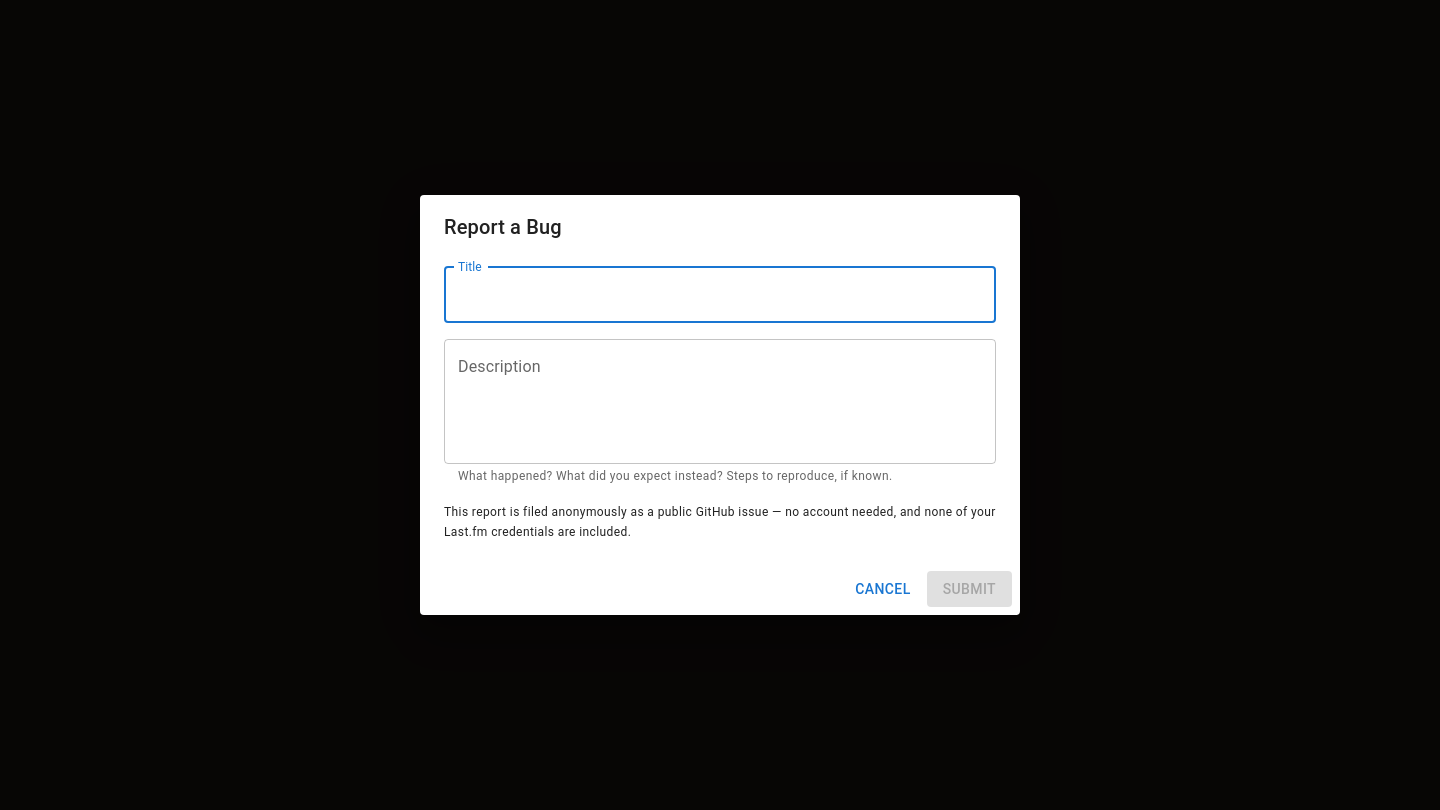
BugReportDialog › shows the created issue URL after a successful submission
This screenshot has width=1440, height=810.
Type "Title" into the field labelled "Title" at (720, 295), box x1=444 y1=267 x2=996 y2=323
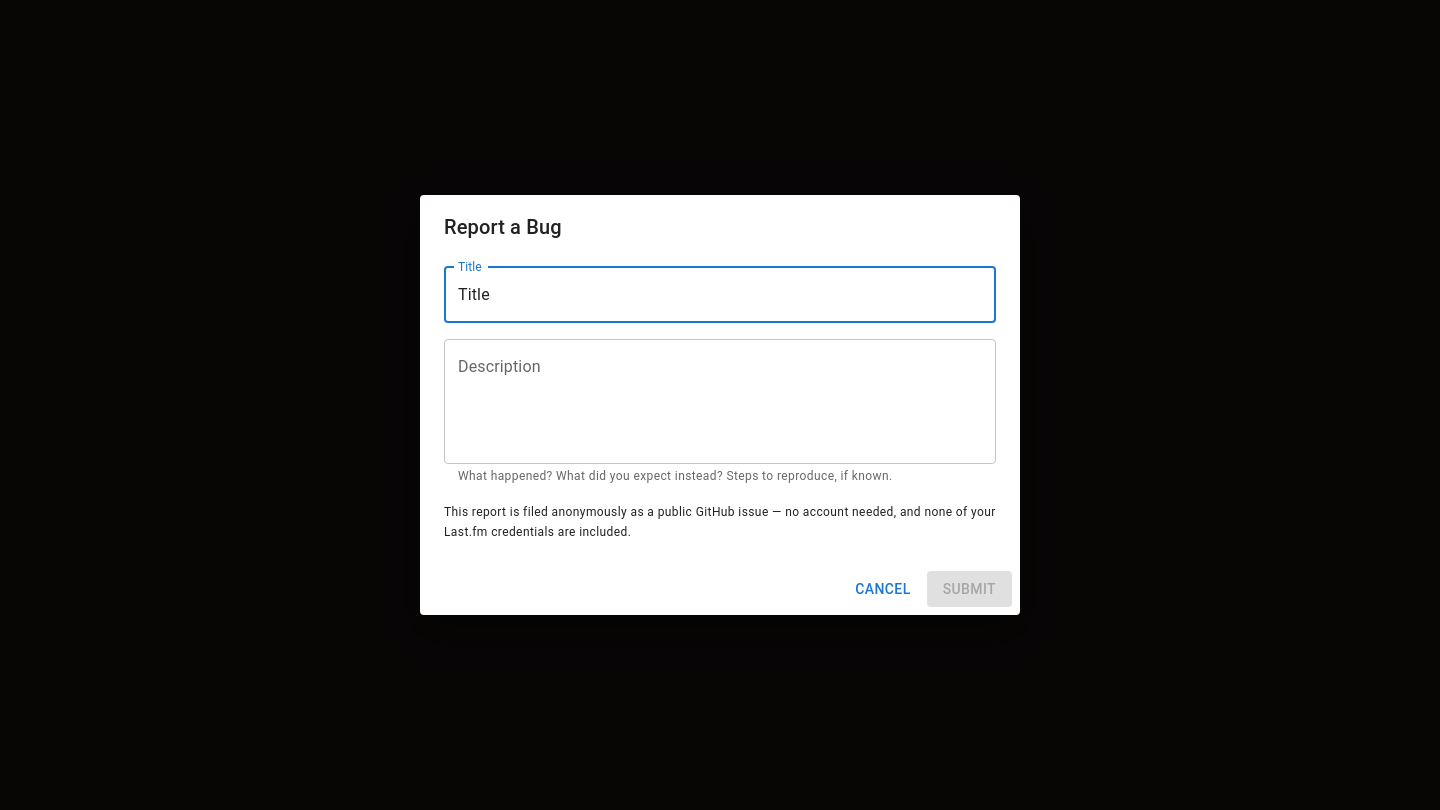
Type "Description" into the text box labelled "Description" at (720, 401), box x1=458 y1=355 x2=982 y2=447
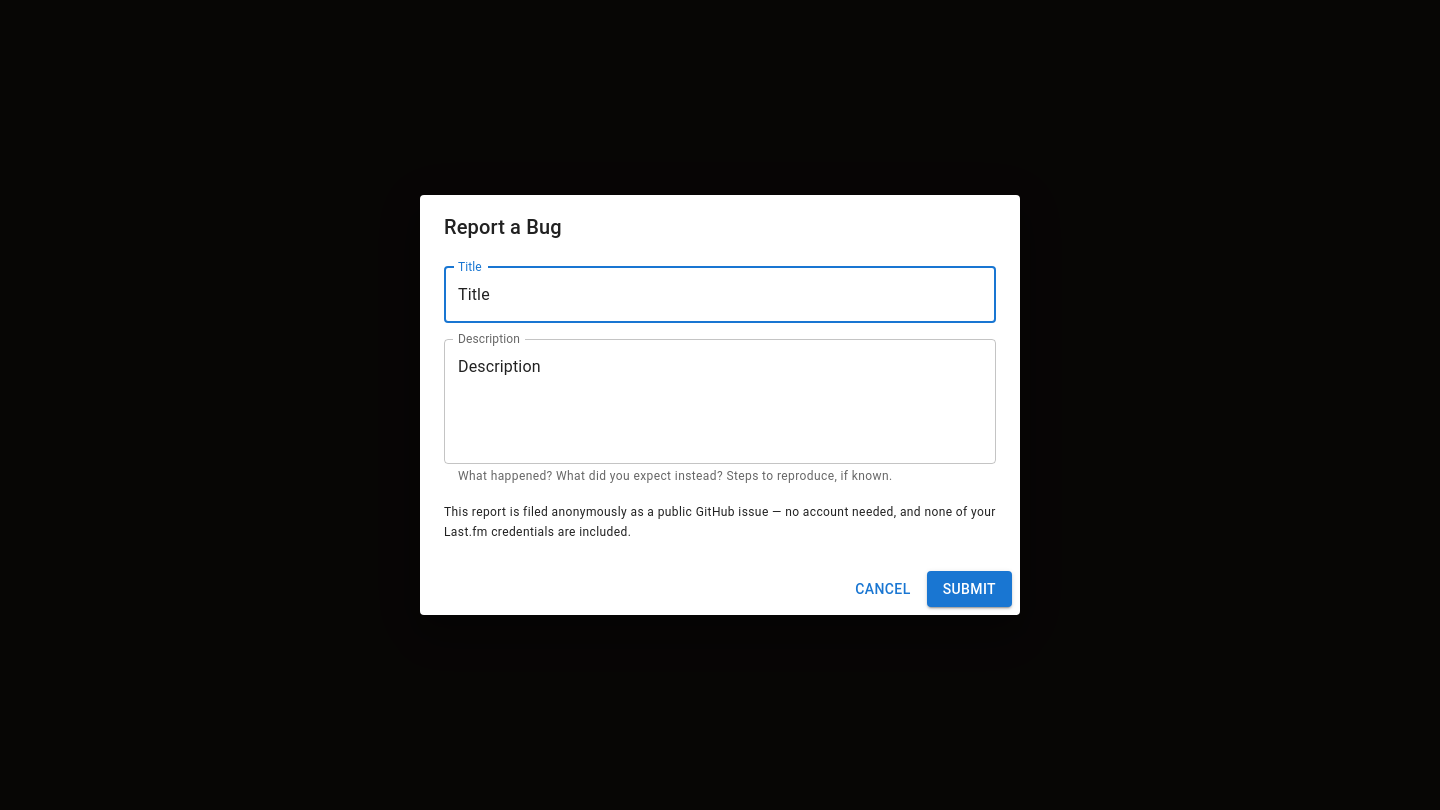
Click the button "Submit" at (969, 589), box x1=927 y1=571 x2=1012 y2=607
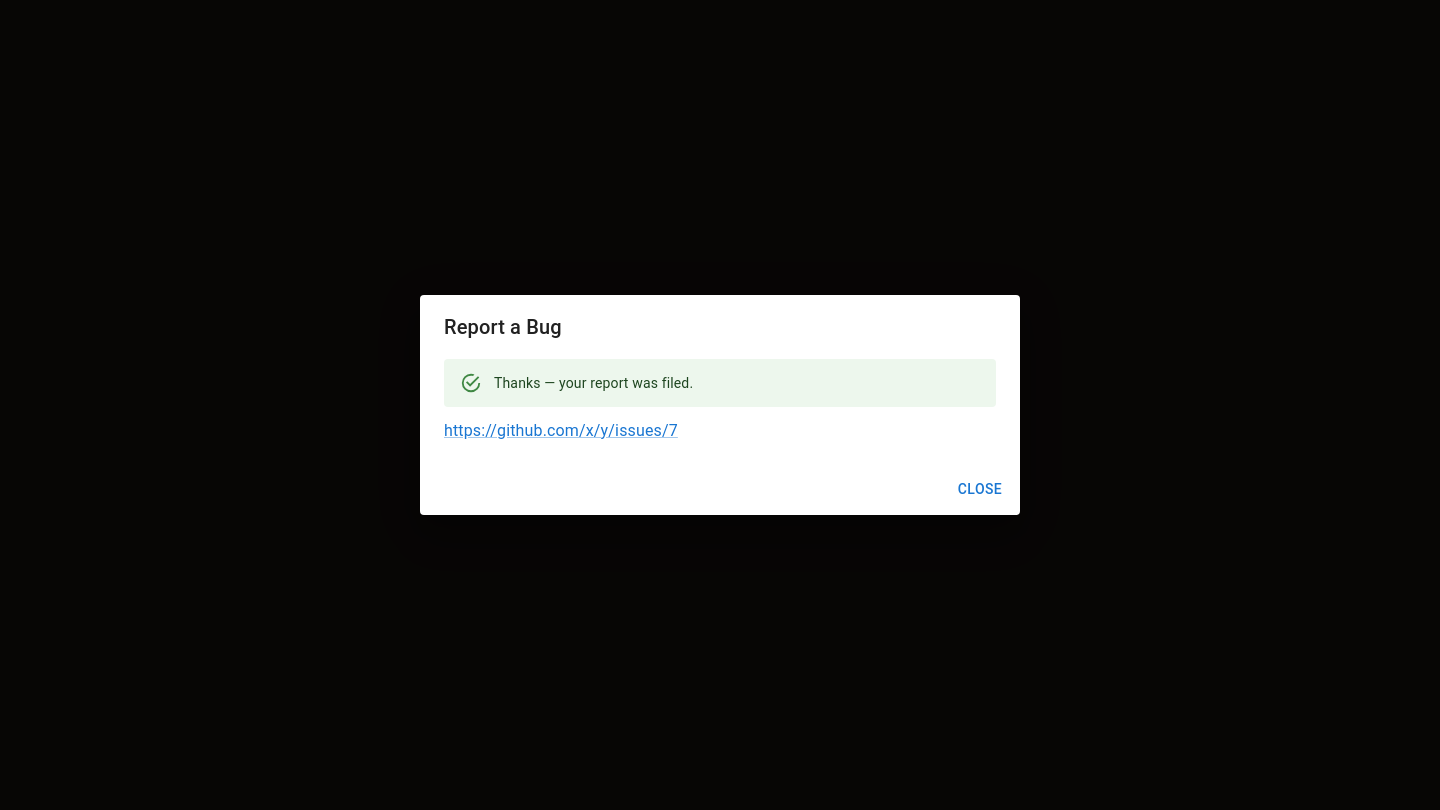
Result: the link "https://github.com/x/y/issues/7" is shown at x1=444 y1=421 x2=678 y2=440
